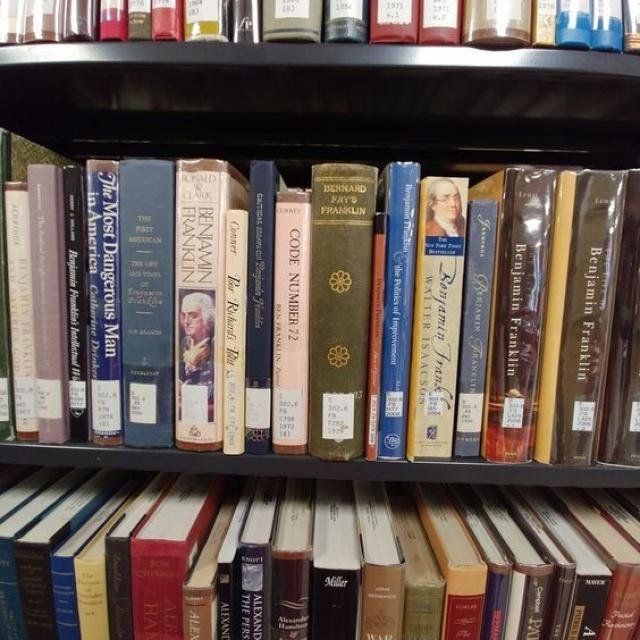book: (549, 169, 630, 467), (483, 167, 557, 462), (311, 165, 377, 460), (410, 177, 469, 459), (121, 159, 174, 445), (175, 161, 222, 450), (376, 160, 420, 460), (538, 172, 576, 463), (455, 202, 498, 457), (272, 191, 311, 455), (28, 165, 65, 442), (88, 160, 123, 445), (3, 181, 38, 440), (62, 163, 90, 442), (247, 160, 273, 452), (224, 211, 245, 454)
